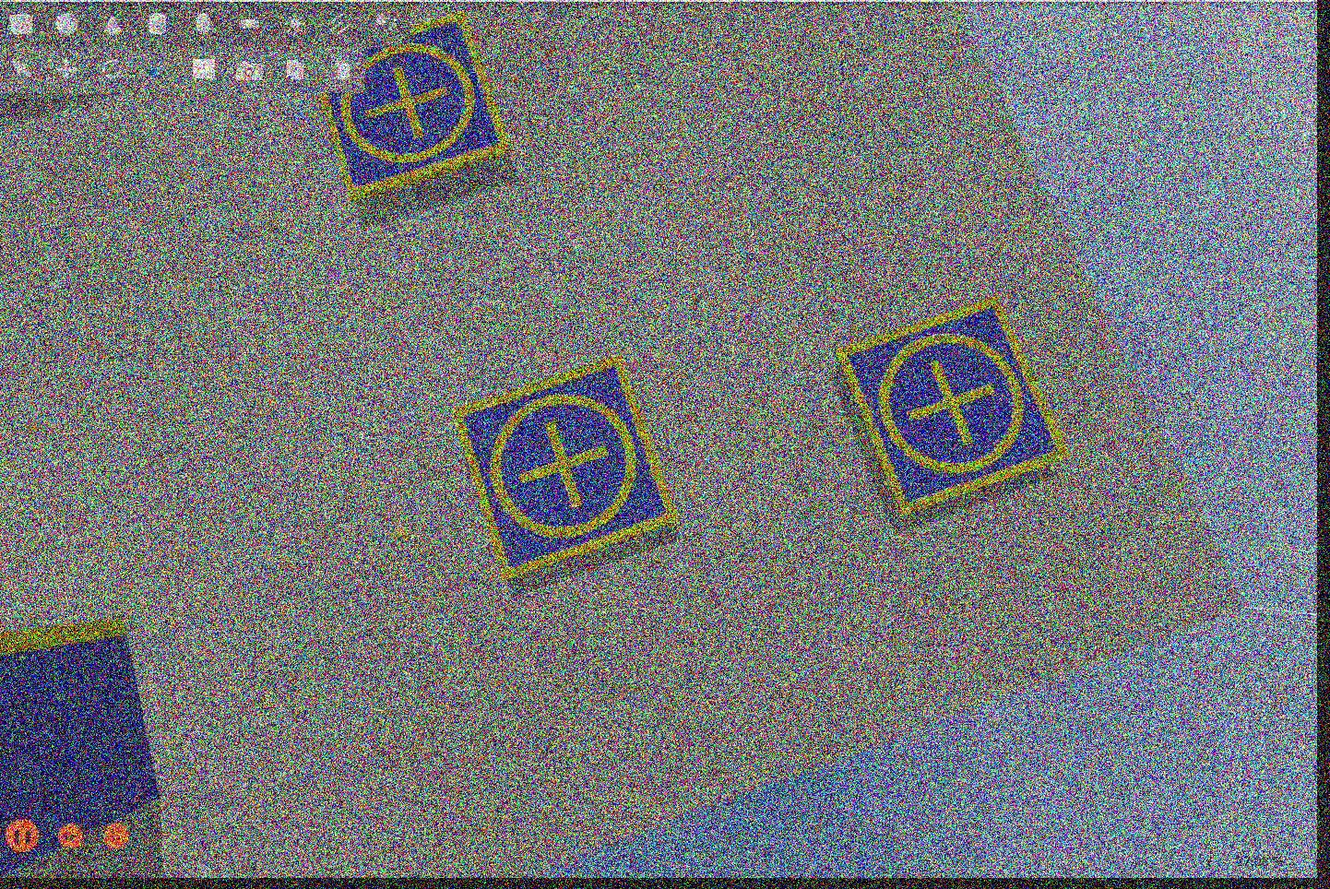small_base: (834, 299, 1074, 520), (456, 356, 678, 582), (312, 10, 513, 204)
